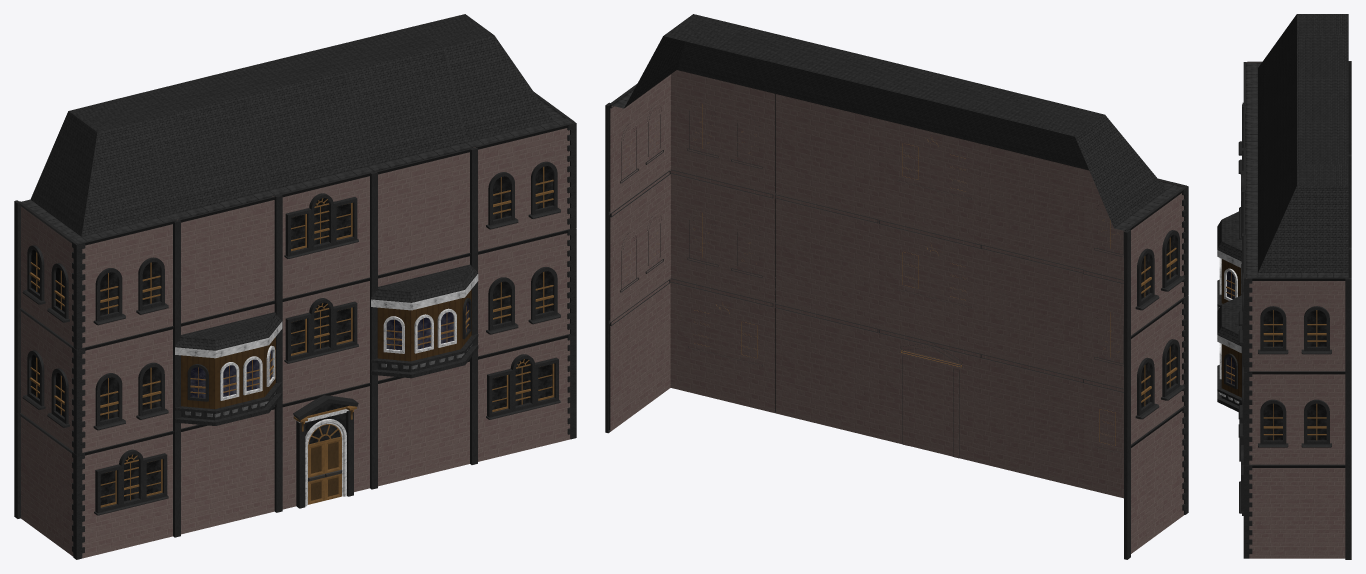
The model's file is Mansion.001_House.002c.fbx.
3 views of the same model, side by side, from view 1: azimuth 30°, elevation 25°; view 2: azimuth 150°, elevation 25°; view 3: azimuth 270°, elevation 25° (orthographic). The views are drawn at different scales.
Visible parts, largest first — view 1: Mansion001_House_002; view 2: Mansion001_House_002; view 3: Mansion001_House_002.
Part boxes in pixels (x1,y1,x2,y2): Mansion001_House_002: (14,14,576,559); Mansion001_House_002: (605,14,1188,559); Mansion001_House_002: (1217,14,1351,559).
Bounding box in the file's own units: 2022 × 1495 × 520.
